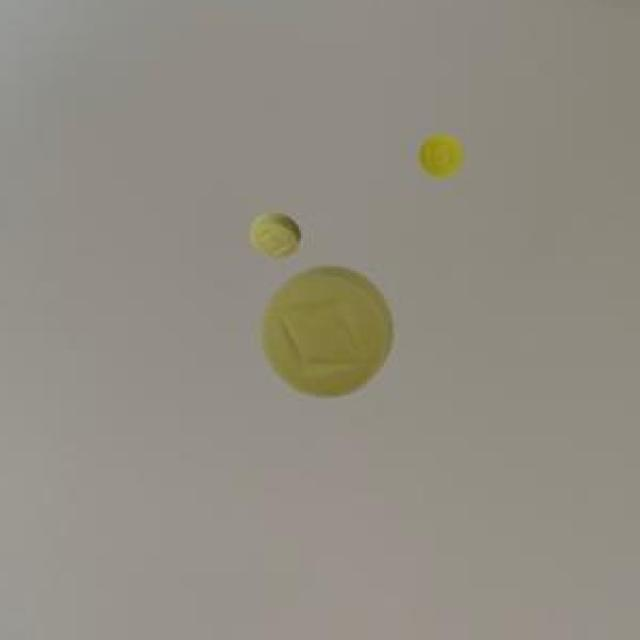Decolgen: (254, 265, 406, 409), (242, 204, 312, 266), (412, 121, 468, 182)
